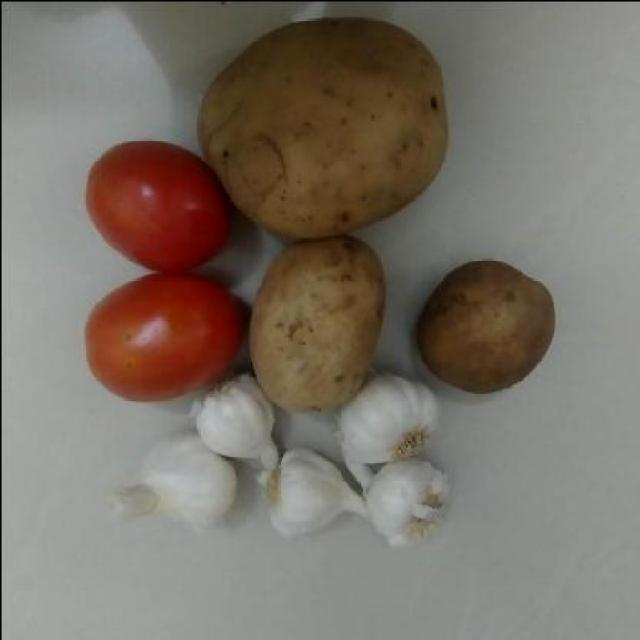Garlic: (102, 431, 236, 526), (190, 374, 284, 472), (255, 449, 372, 526), (340, 384, 445, 464), (360, 454, 449, 543)
Potato: (194, 15, 458, 228), (243, 230, 386, 412), (414, 254, 558, 395)
Tomato: (80, 271, 246, 403), (81, 135, 232, 277)
